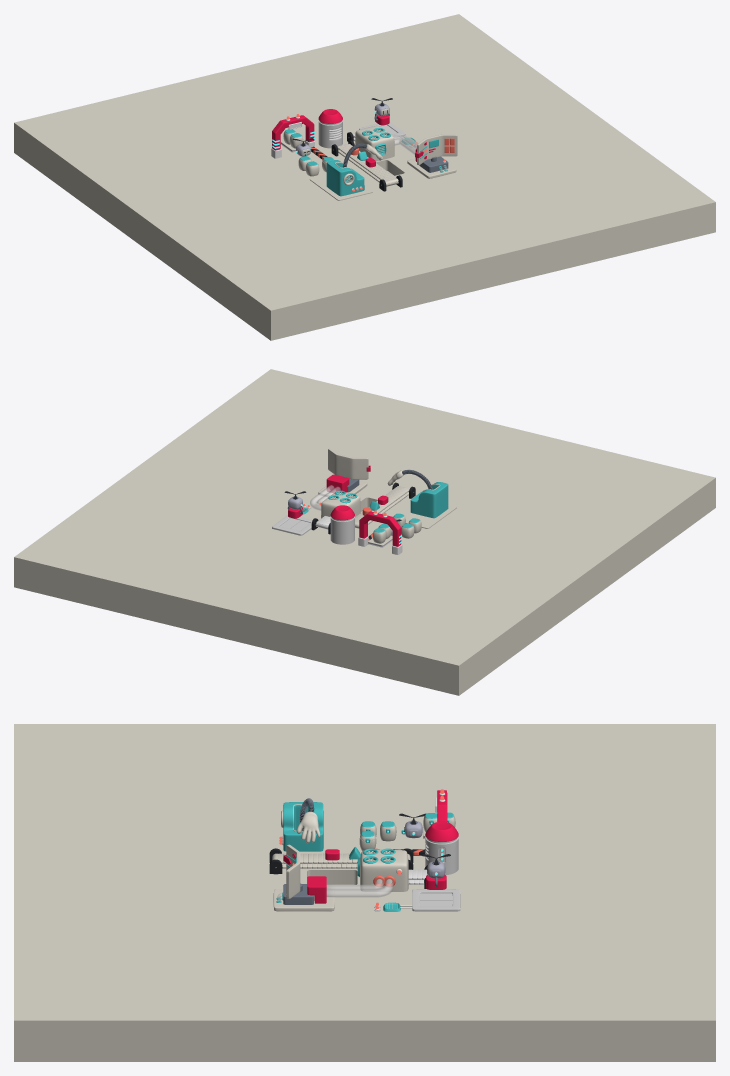
File: bots2.glb
The picture shows the model from 3 angles, top to bottom: view 1: azimuth 30°, elevation 25°; view 2: azimuth 150°, elevation 25°; view 3: azimuth 270°, elevation 25°; orthographic projection. The views are drawn at different scales.
Parts seen in each view (by area): view 1: Bg, Hand, Battery, Factory, Plane.003, Conveyor, Gate; view 2: Bg, Hand, Plane.003, Battery, Gate, Factory, Conveyor; view 3: Bg, Factory, Battery, Hand, Tubes, Conveyor, Ground, Computer, Basement, Plane.003, Circle.004.
Boxes of the visible parts, left/top/right/bottom form: Bg: left=14, top=14, right=715, bottom=340; Hand: left=326, top=160, right=364, bottom=196; Battery: left=318, top=109, right=342, bottom=148; Factory: left=355, top=125, right=394, bottom=161; Plane.003: left=417, top=134, right=457, bottom=165; Conveyor: left=337, top=143, right=398, bottom=186; Gate: left=272, top=115, right=314, bottom=150; Bg: left=14, top=369, right=715, bottom=695; Hand: left=410, top=482, right=448, bottom=518; Plane.003: left=328, top=448, right=368, bottom=479; Battery: left=330, top=505, right=354, bottom=544; Gate: left=359, top=511, right=401, bottom=546; Factory: left=321, top=492, right=360, bottom=518; Conveyor: left=355, top=486, right=409, bottom=528; Bg: left=14, top=724, right=715, bottom=1061; Factory: left=360, top=849, right=408, bottom=891; Battery: left=425, top=821, right=458, bottom=874; Hand: left=283, top=802, right=323, bottom=851; Tubes: left=326, top=878, right=393, bottom=897; Conveyor: left=272, top=853, right=410, bottom=868; Ground: left=274, top=831, right=354, bottom=853; Computer: left=273, top=889, right=334, bottom=911; Basement: left=412, top=889, right=460, bottom=911; Plane.003: left=286, top=844, right=300, bottom=898; Circle.004: left=296, top=811, right=320, bottom=843.
Size of the model in its own units: 27.84 by 4.15 by 27.84.
